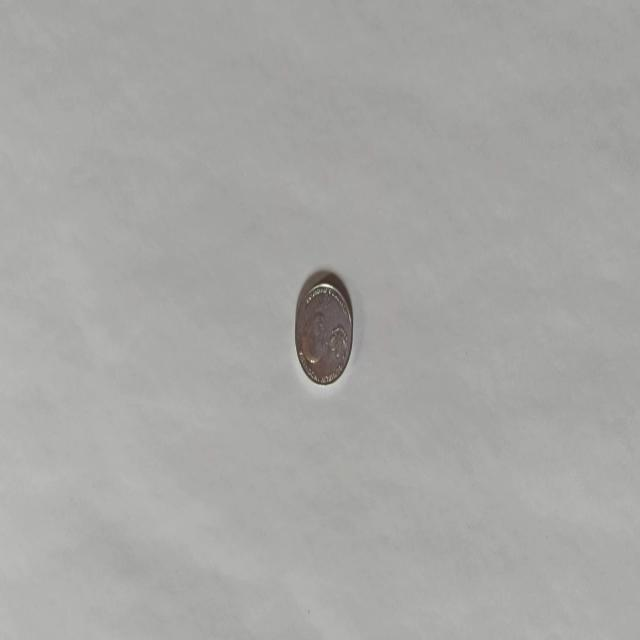lima ratus rupiah: (293, 274, 353, 386)
